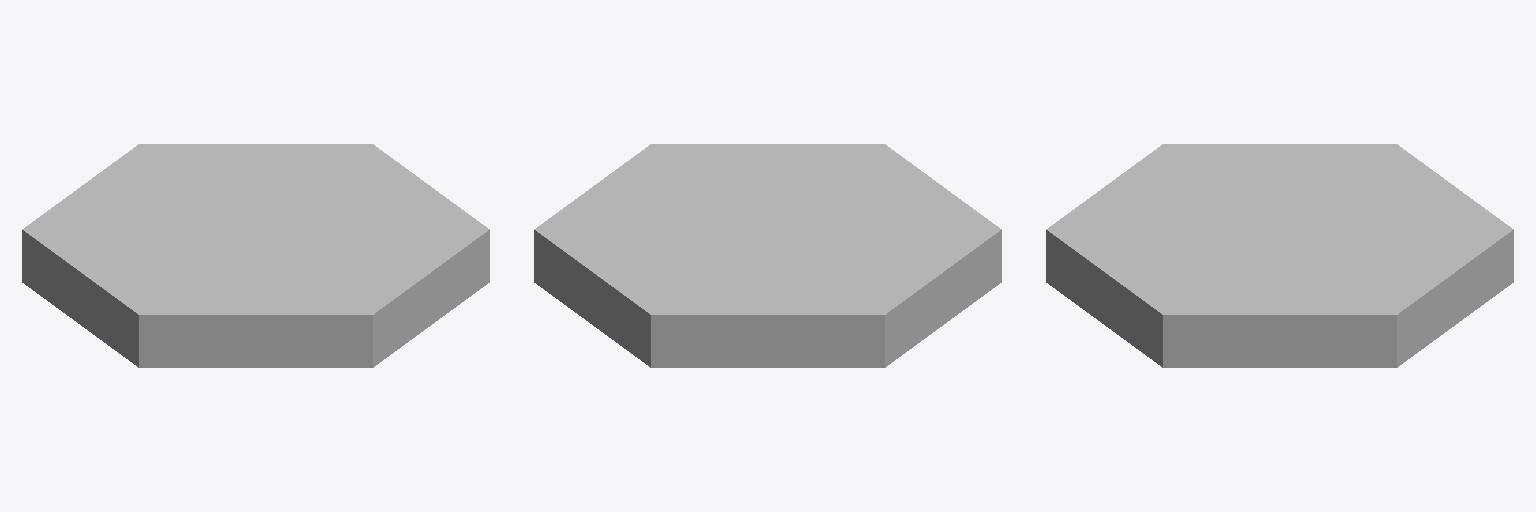
The model's file is gear2.obj.
3 renders of one model, left to right at view 1: azimuth 30°, elevation 25°; view 2: azimuth 150°, elevation 25°; view 3: azimuth 270°, elevation 25°, orthographic.
Visible parts, largest first — view 1: Cylinder; view 2: Cylinder; view 3: Cylinder.
Boxes of the visible parts, <box> form: Cylinder: <box>22,144,489,367</box>; Cylinder: <box>534,144,1001,367</box>; Cylinder: <box>1046,144,1513,367</box>.
Size of the model in its own units: 1.73 by 0.25 by 2.